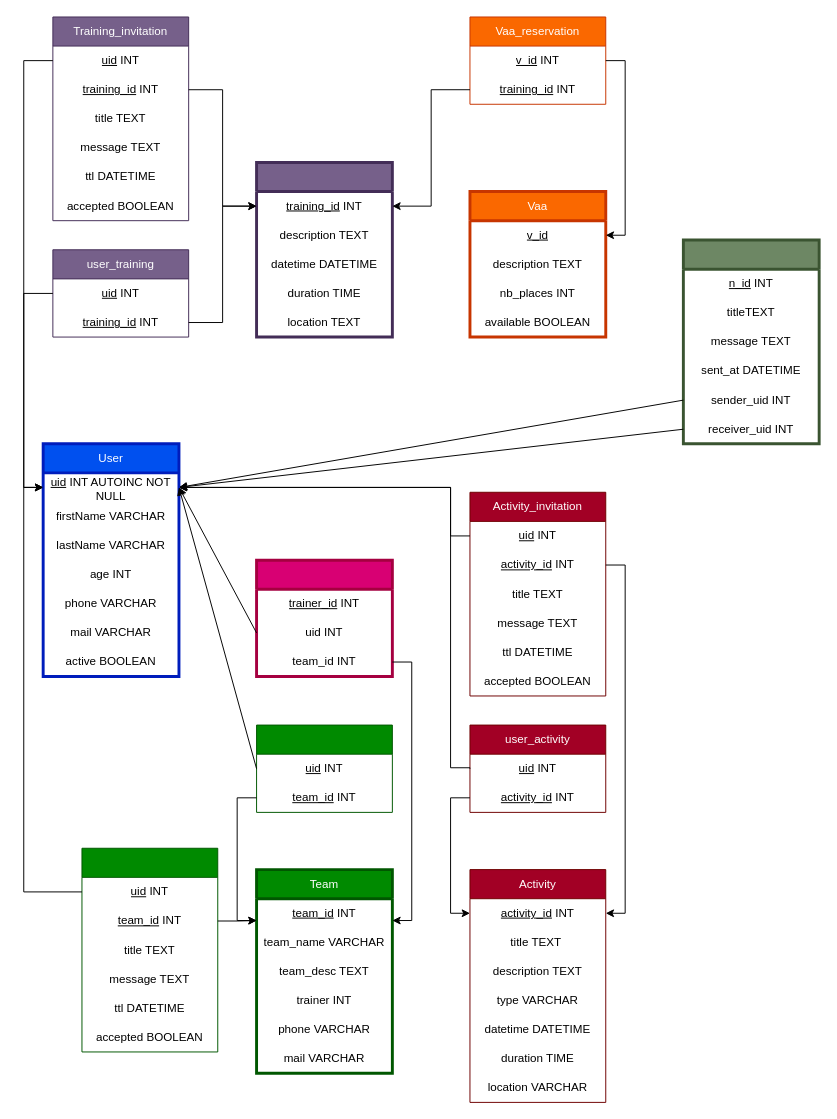
This 837x1119 diagram has some shape labels left out. Here are the shapes that lost their labels. From the top down, the box of each, then its label:
(255, 161, 393, 338): Trainings
(681, 238, 820, 445): Notification
(255, 558, 393, 678): Trainers
(256, 724, 392, 812): user_team
(81, 847, 218, 1052): Team_invitation
